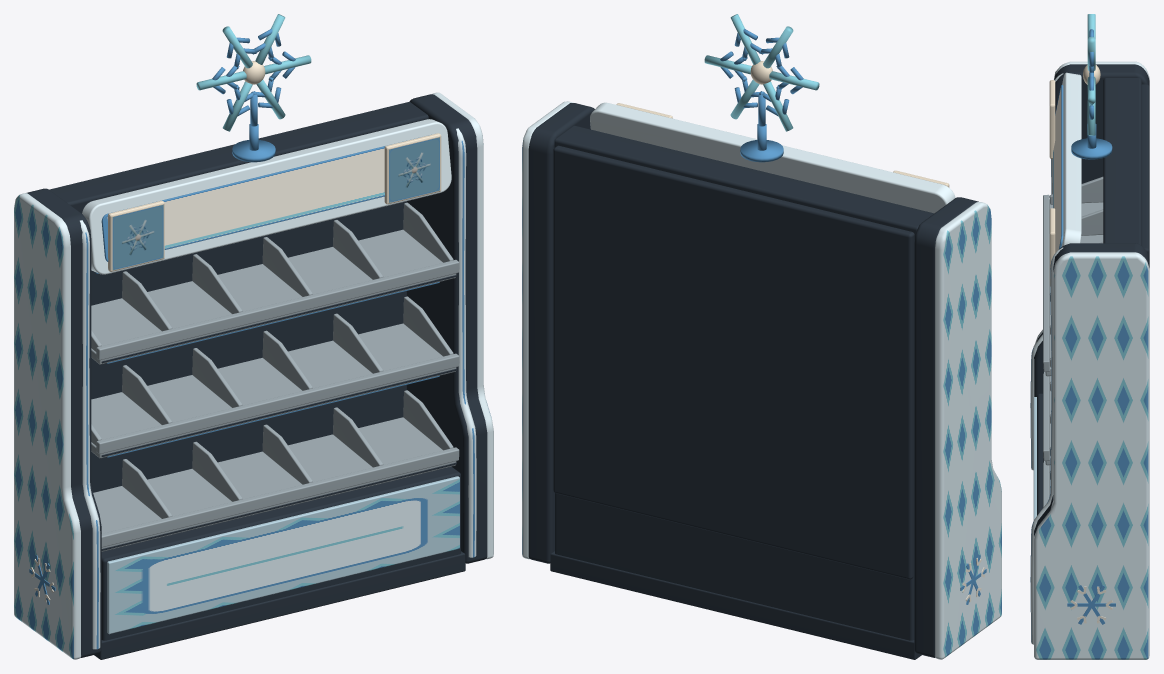
File: TH_ICE.fbx
The picture shows the model from 3 angles, left to right: view 1: azimuth 30°, elevation 25°; view 2: azimuth 150°, elevation 25°; view 3: azimuth 270°, elevation 25°; orthographic projection. The views are drawn at different scales.
Parts seen in each view (by area): view 1: BaseFrontInset, Left_PaintedPanel, BackPanel.001, Right_StructuralWall, Tray_01, Tray_02, Tray_03, HeaderFace, HeaderBorder, TopCrossRail, Left_StructuralWall, ClosedSolidBase (+32 smaller); view 2: BackPanel.001, Left_PaintedPanel, ClosedSolidBase, Right_StructuralWall, HeaderBorder, Left_StructuralWall, TopCrossRail, LowerPlinth, Right_PaintedPanel, TopperMount; view 3: Right_PaintedPanel, TopCrossRail, HeaderBorder, Left_StructuralWall, HeaderFace, BackPanel.001, RightHousing, FrontLip_01, Right_StructuralWall, ClosedSolidBase, TopperMount, FrontLip_02 (+12 smaller).
Part boxes in pixels (<box>): BaseFrontInset: <box>107,476,459,634</box>; Left_PaintedPanel: <box>14,193,80,659</box>; BackPanel.001: <box>91,201,406,492</box>; Right_StructuralWall: <box>407,94,487,563</box>; Tray_01: <box>91,229,456,364</box>; Tray_02: <box>91,323,456,458</box>; Tray_03: <box>93,417,456,551</box>; HeaderFace: <box>101,135,429,261</box>; HeaderBorder: <box>82,119,451,274</box>; TopCrossRail: <box>49,102,428,213</box>; Left_StructuralWall: <box>27,188,101,657</box>; ClosedSolidBase: <box>101,466,460,640</box>; BackPanel.001: <box>553,145,914,579</box>; Left_PaintedPanel: <box>935,202,1001,659</box>; ClosedSolidBase: <box>555,493,914,640</box>; Right_StructuralWall: <box>528,103,594,563</box>; HeaderBorder: <box>590,102,955,213</box>; Left_StructuralWall: <box>914,197,978,657</box>; TopCrossRail: <box>554,125,933,239</box>; LowerPlinth: <box>550,551,921,659</box>; Right_PaintedPanel: <box>522,101,573,559</box>; TopperMount: <box>740,140,783,162</box>; Right_PaintedPanel: <box>1034,252,1149,659</box>; TopCrossRail: <box>1103,78,1141,245</box>; HeaderBorder: <box>1061,72,1081,246</box>; Left_StructuralWall: <box>1034,64,1149,396</box>; HeaderFace: <box>1053,85,1063,252</box>; BackPanel.001: <box>1141,84,1149,258</box>; RightHousing: <box>1030,247,1063,644</box>; FrontLip_01: <box>1043,194,1049,371</box>; Right_StructuralWall: <box>1034,243,1149,536</box>; ClosedSolidBase: <box>1037,393,1042,515</box>; TopperMount: <box>1071,138,1112,159</box>; FrontLip_02: <box>1043,372,1049,460</box>.
Bounding box in the file's own units: 3.62 × 4.68 × 0.9273.
